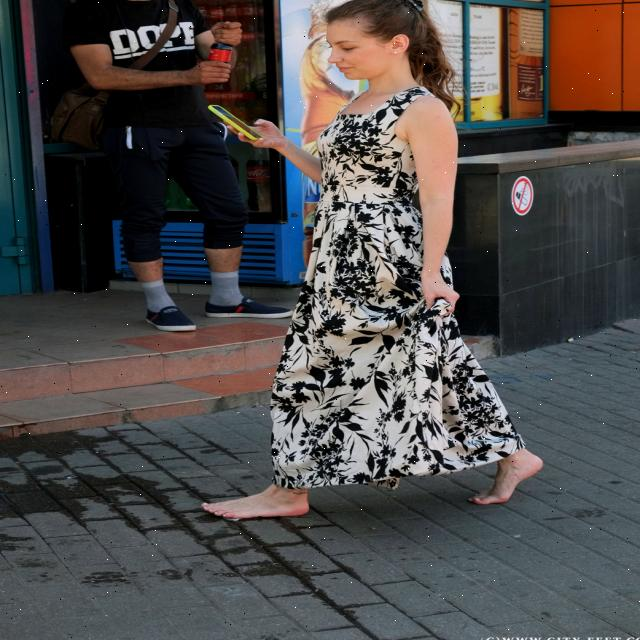No Safety Boots: (468, 454, 543, 504), (202, 492, 310, 518)
